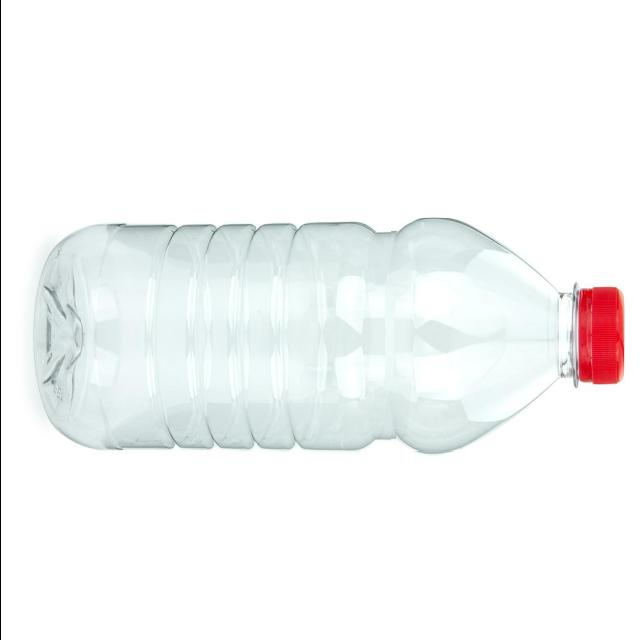bottom: (34, 224, 116, 448)
neck: (390, 218, 623, 451)
